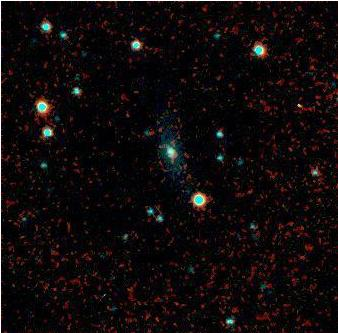star: (112, 106, 142, 136)
